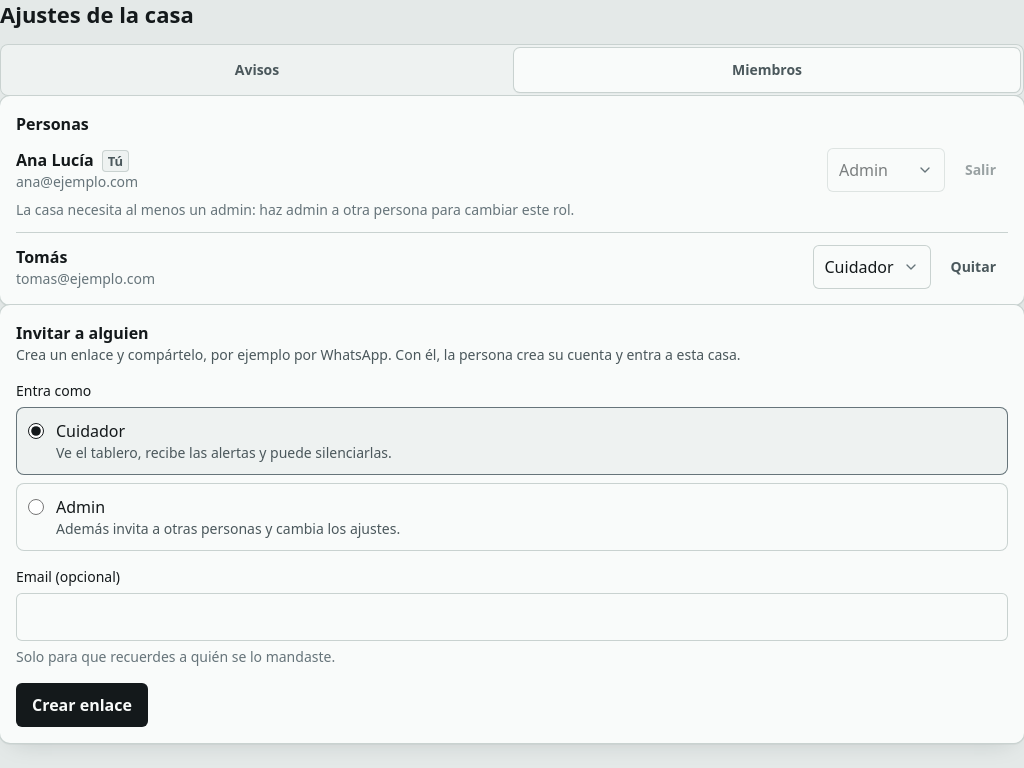
Test: Miembros › cambiar el rol lo confirma con un aviso
Select "Admin" in the dropdown named "Rol de Tomás" in the row of "tomas@ejemplo.com" at (872,267), box [812,245,930,289]
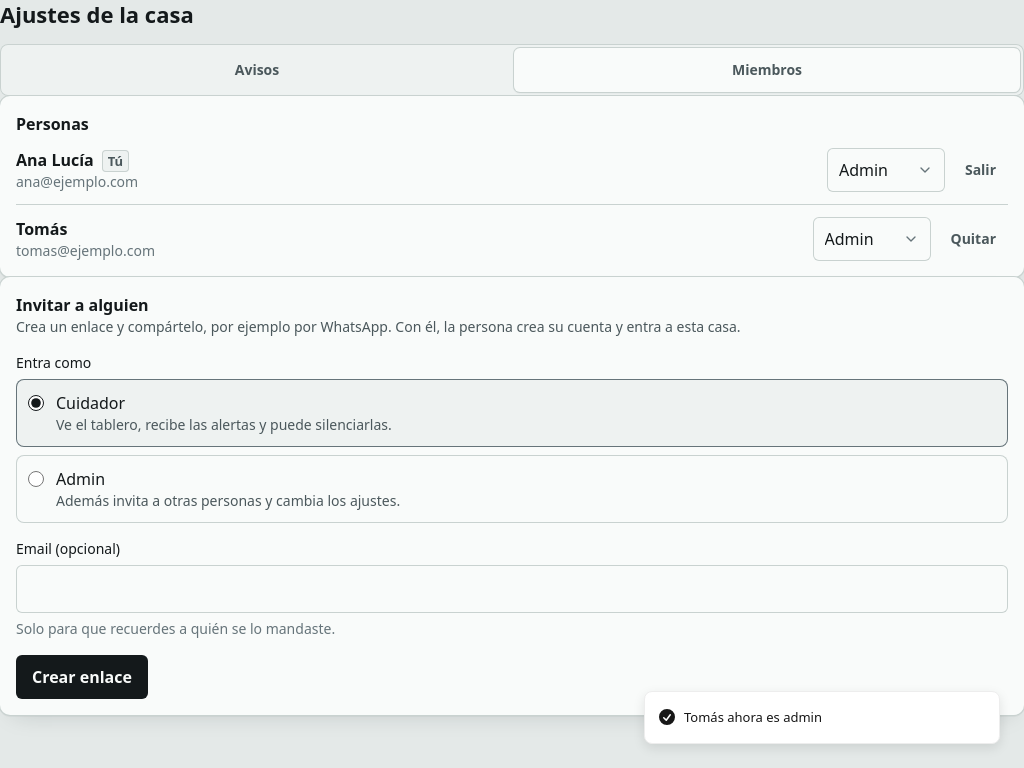
Check: the text "Tomás ahora es admin" is shown, box [684,708,822,727]
Check: the dropdown named "Rol de Ana Lucía" in the row of "ana@ejemplo.com" is enabled, box [827,148,945,192]
